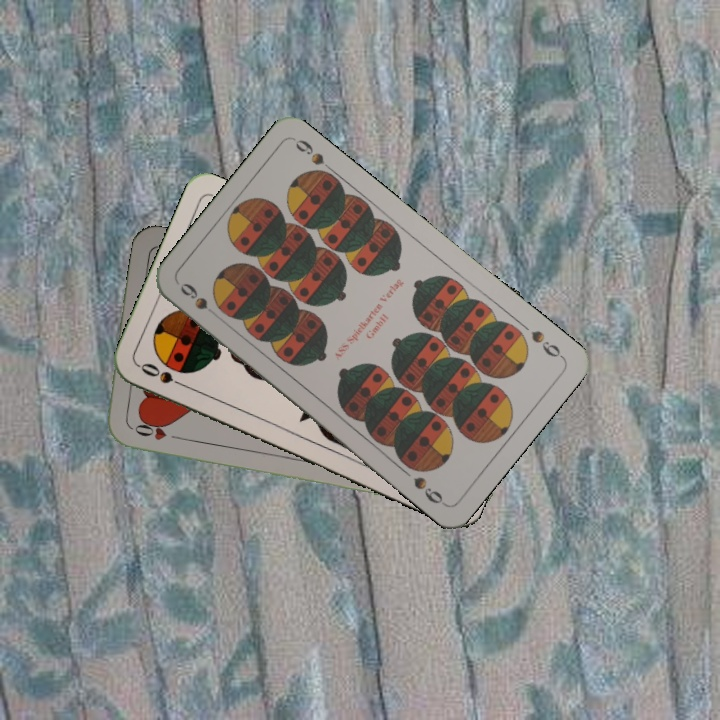HO: (125, 419, 184, 443)
S9: (176, 279, 224, 323), (527, 326, 567, 362)
SO: (135, 359, 191, 391)
